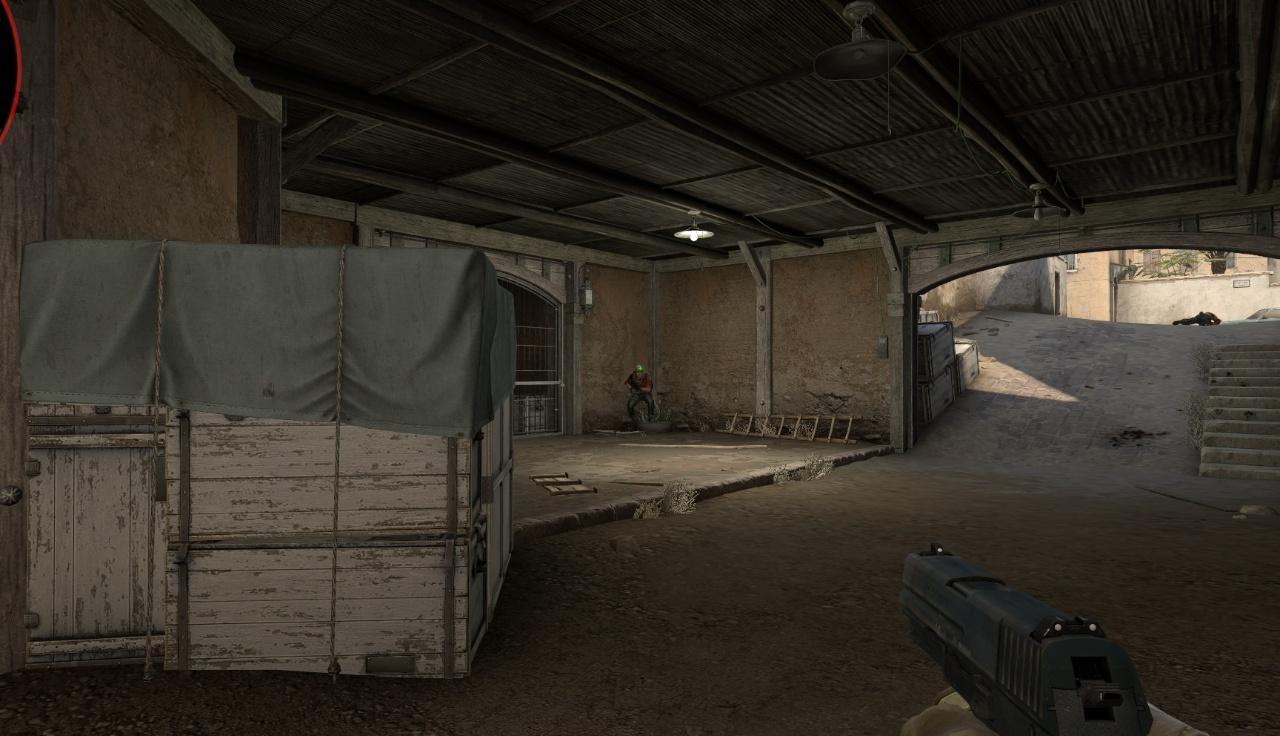pistol: (898, 541, 1155, 736)
tt: (625, 366, 655, 422)
tthead: (635, 365, 644, 377)
